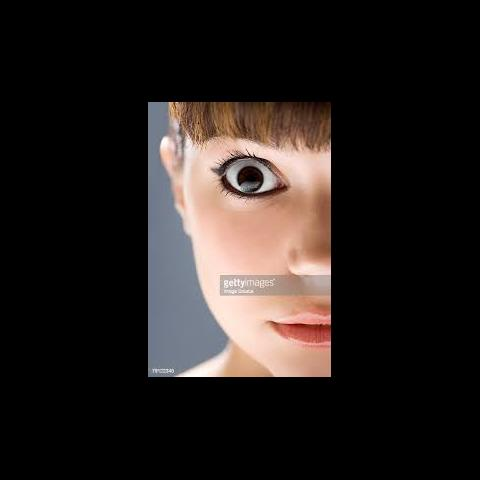opened: (194, 128, 296, 216)
